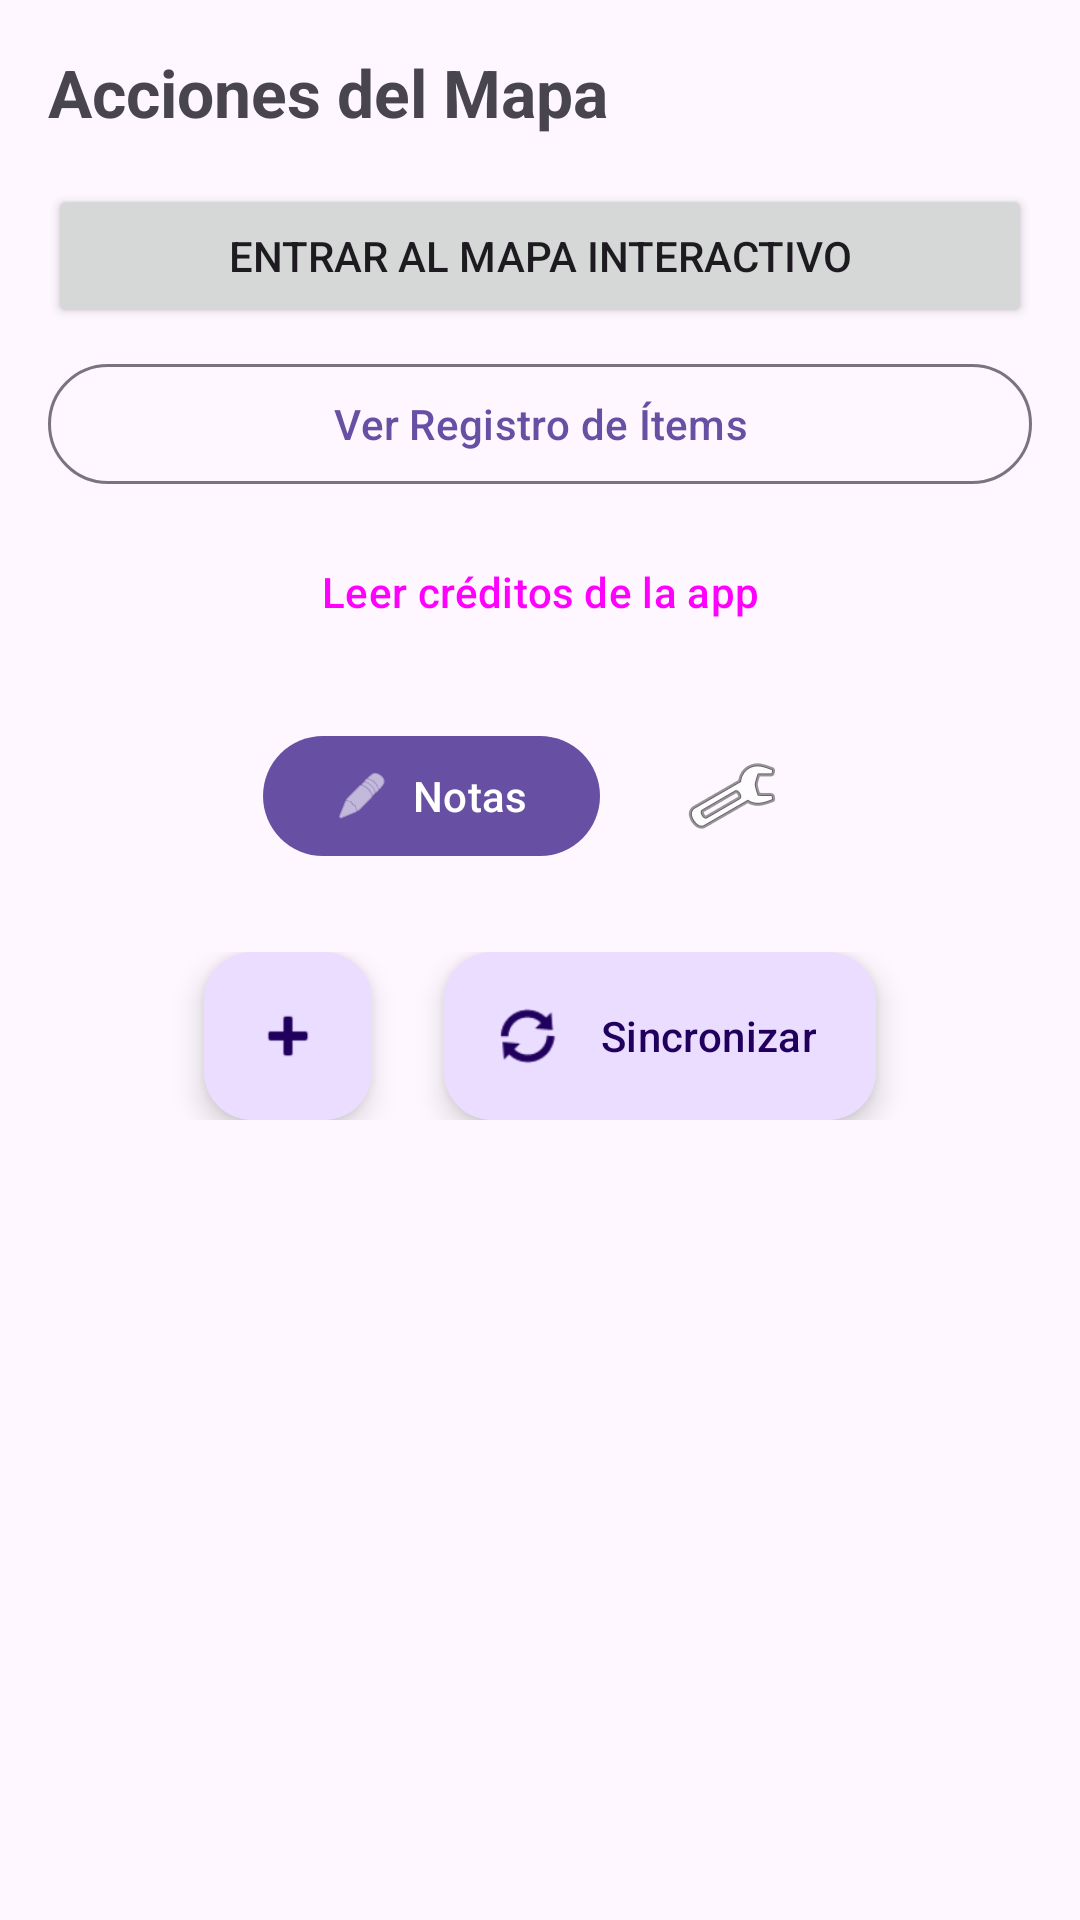

Icons on this 1080px×1920px Android screen, each with the point to tap as point (x, y):
Añadir: point (288, 1036)
preferences: point (732, 796)
